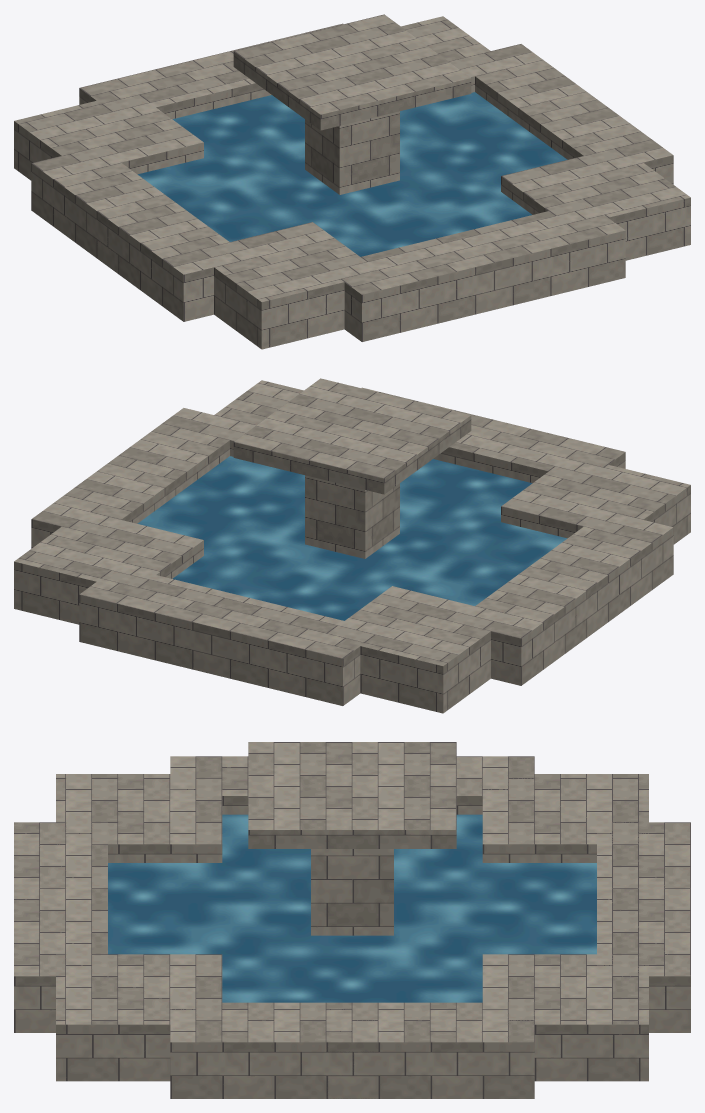
The model's file is fountain.obj.
The picture shows the model from 3 angles, top to bottom: view 1: azimuth 30°, elevation 25°; view 2: azimuth 150°, elevation 25°; view 3: azimuth 270°, elevation 25°; orthographic projection. The views are drawn at different scales.
Parts seen in each view (by area): view 1: stone, water; view 2: stone, water; view 3: stone, water.
Boxes of the visible parts, left/top/right/bottom form: stone: left=14, top=14, right=690, bottom=349; water: left=137, top=92, right=567, bottom=256; stone: left=14, top=378, right=690, bottom=713; water: left=137, top=456, right=567, bottom=620; stone: left=14, top=742, right=690, bottom=1098; water: left=108, top=814, right=596, bottom=1002.
Bounding box in the file's own units: 6.5 × 1.8 × 6.5.
2 materials, 2 textured.
